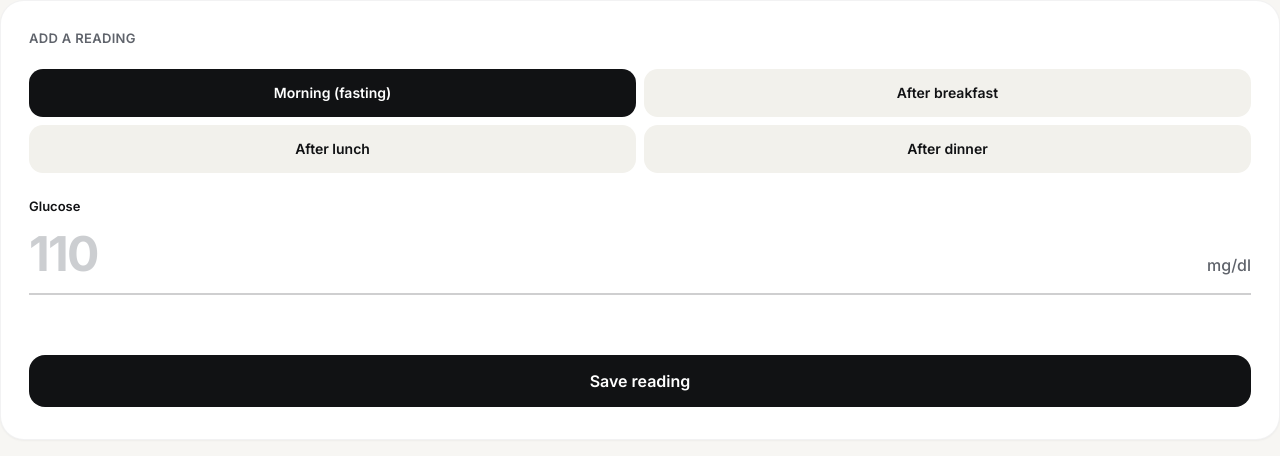
Test: ReadingForm › shows a readable validation error returned by the API
Type "700" into the field labelled "Glucose" at x=614, y=254, box [29,224,1199,283]
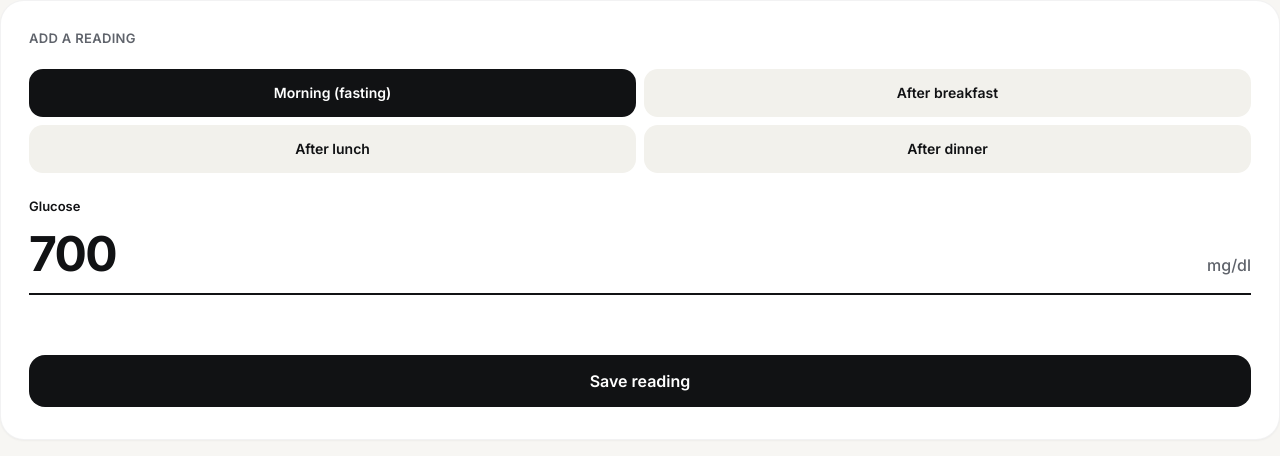
Click the button "Save reading" at x=640, y=381, box [29,355,1251,407]
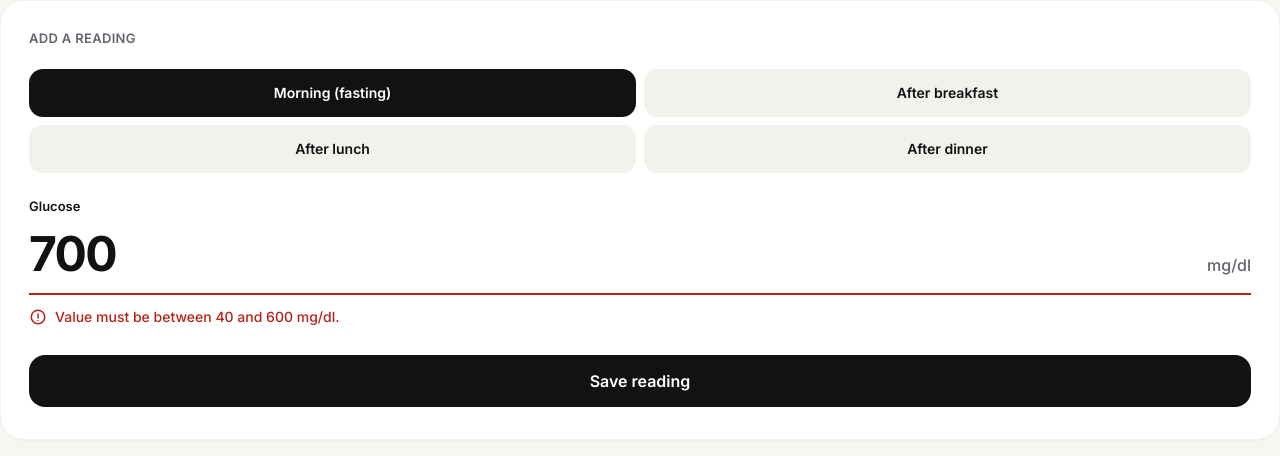
Expected: the text "Value must be between 40 and 600 mg/dl." is shown, [29,308,339,326]
